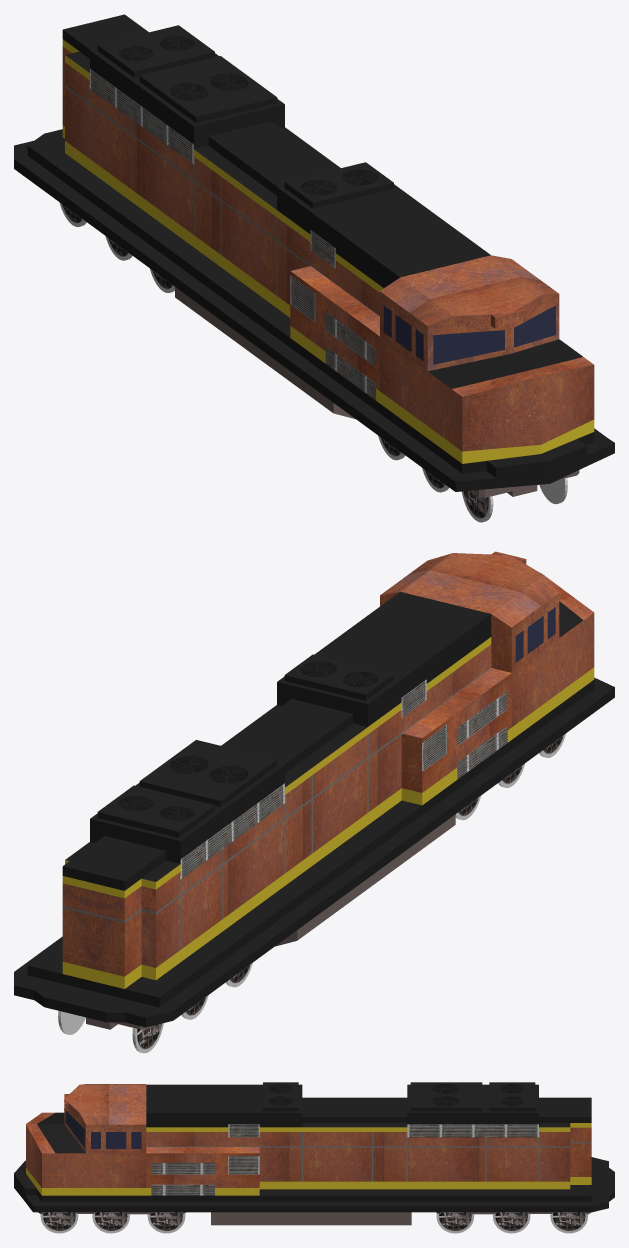
The model's file is train.fbx.
3 renders of one model, top to bottom at view 1: azimuth 30°, elevation 25°; view 2: azimuth 150°, elevation 25°; view 3: azimuth 270°, elevation 25°, orthographic. The views are drawn at different scales.
Visible parts, largest first — view 1: Cube, Circle, Cube.001; view 2: Cube, Circle, Cube.001; view 3: Cube, Circle, Cube.001.
Part boxes in pixels (x1,y1,x2,y2): Cube: [14, 14, 614, 491]; Circle: [59, 202, 567, 522]; Cube.001: [175, 287, 579, 497]; Cube: [14, 551, 614, 1027]; Circle: [58, 733, 565, 1053]; Cube.001: [86, 814, 455, 1029]; Cube: [14, 1082, 614, 1212]; Circle: [40, 1212, 587, 1233]; Cube.001: [38, 1212, 591, 1225].
Size of the model in its own units: 162 by 195 by 836.
